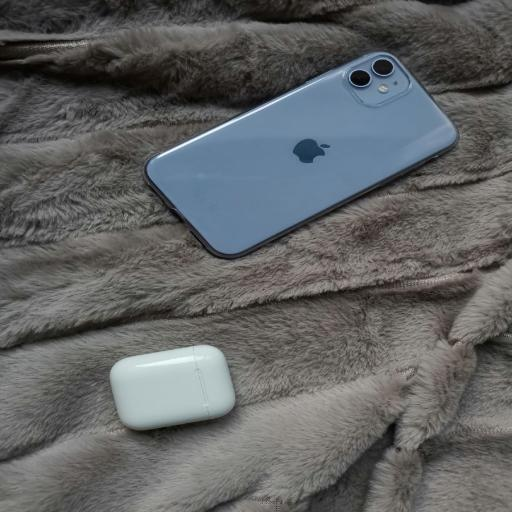people: (132, 37, 476, 269)
